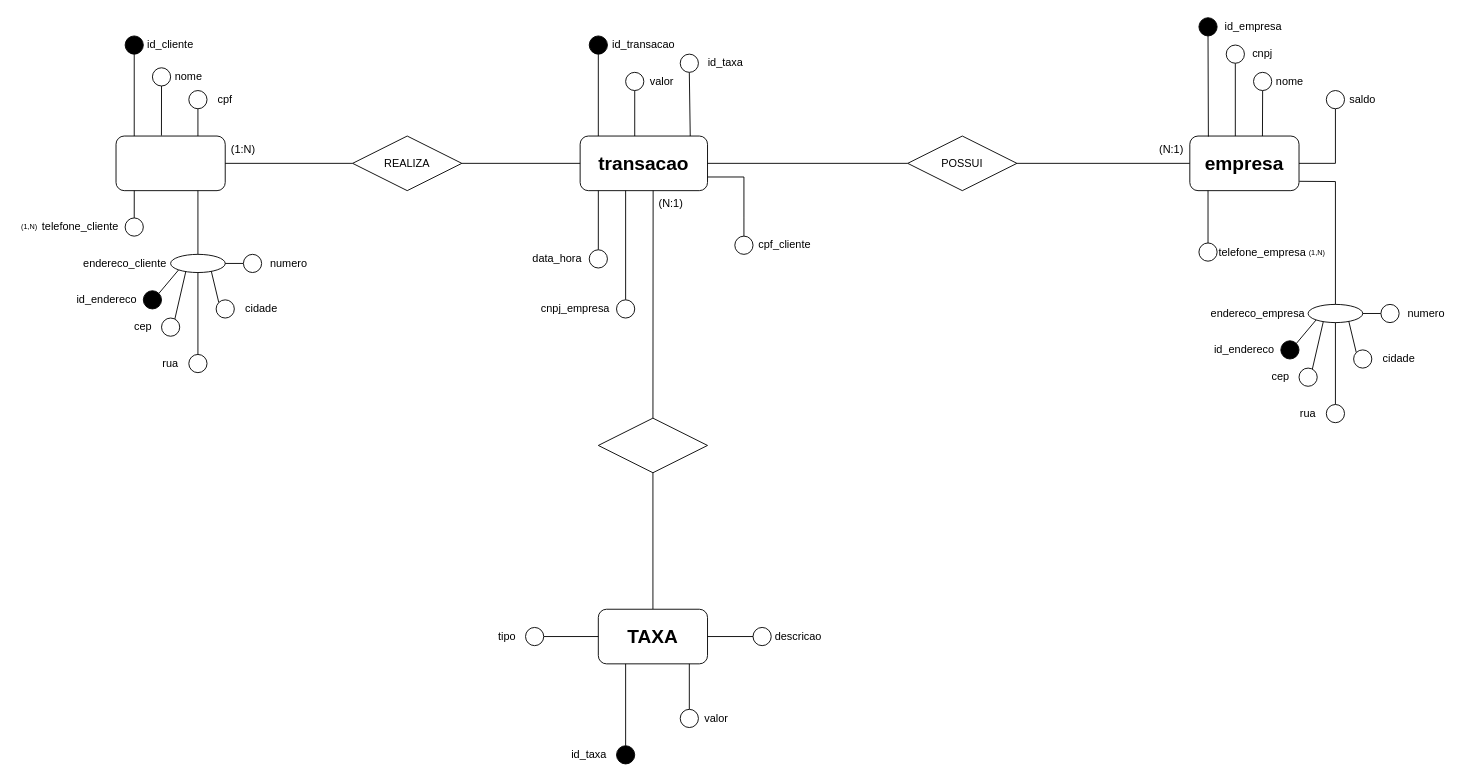
Image size: 1469x784. Some labels were removed from this diagram. Each missing label, with the centre of its shape:
"APLICA" goes at point 652,445.
"cliente" goes at point 170,163.
